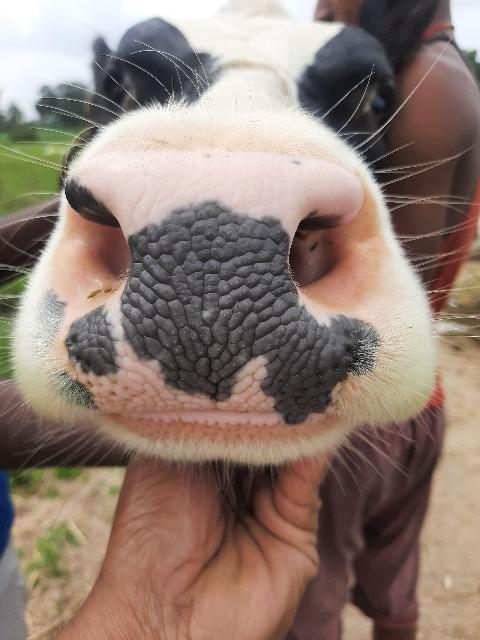Muzzle: (83, 158, 331, 416)
